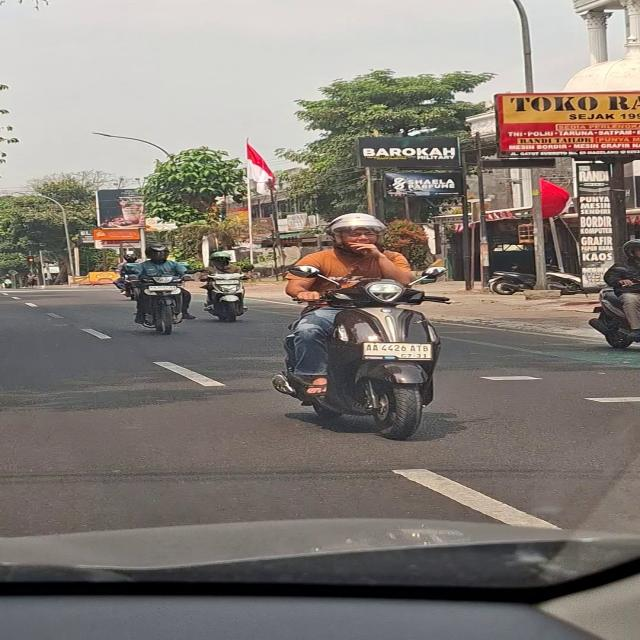WithHelmet: (279, 212, 417, 396), (121, 243, 198, 325), (603, 236, 640, 332), (200, 251, 254, 313), (114, 253, 138, 295)
